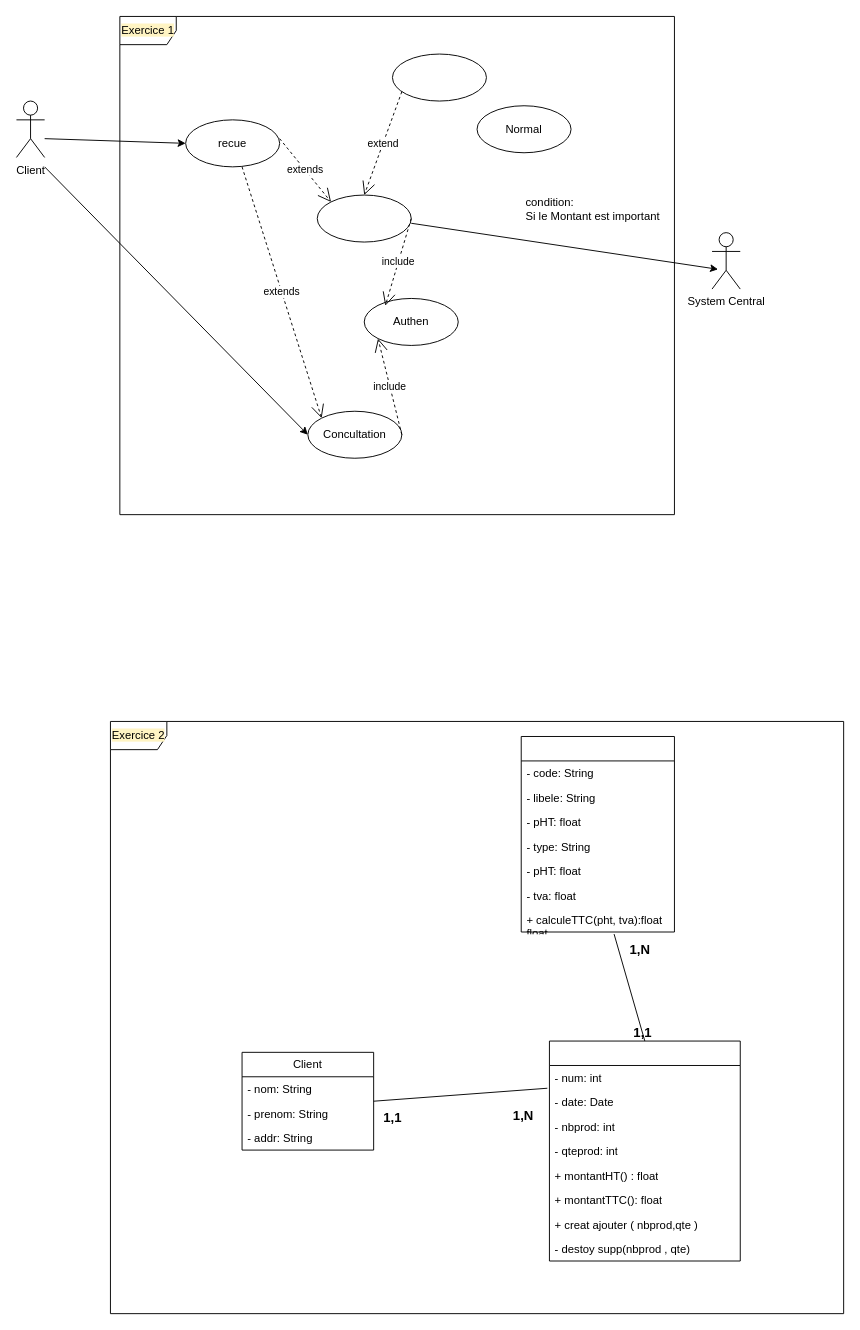
Image size: 860x1330. Some labels were removed from this diagram. Each missing label, with the box of its shape:
Facture: (548, 1040, 740, 1261)
produit: (520, 736, 674, 932)
Rapide: (392, 53, 486, 101)
retrait: (316, 194, 411, 242)
